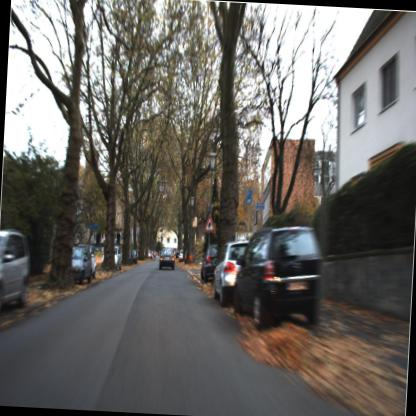danger: (202, 212, 215, 235)
